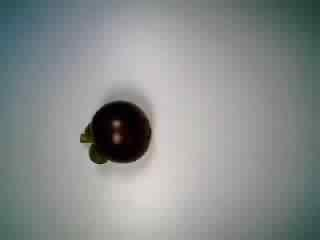mangosteen: (77, 95, 152, 172)
